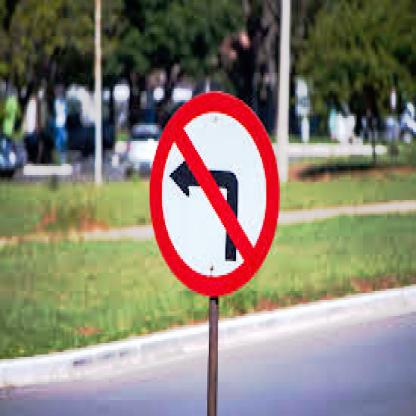No left turn: (149, 87, 282, 303)
